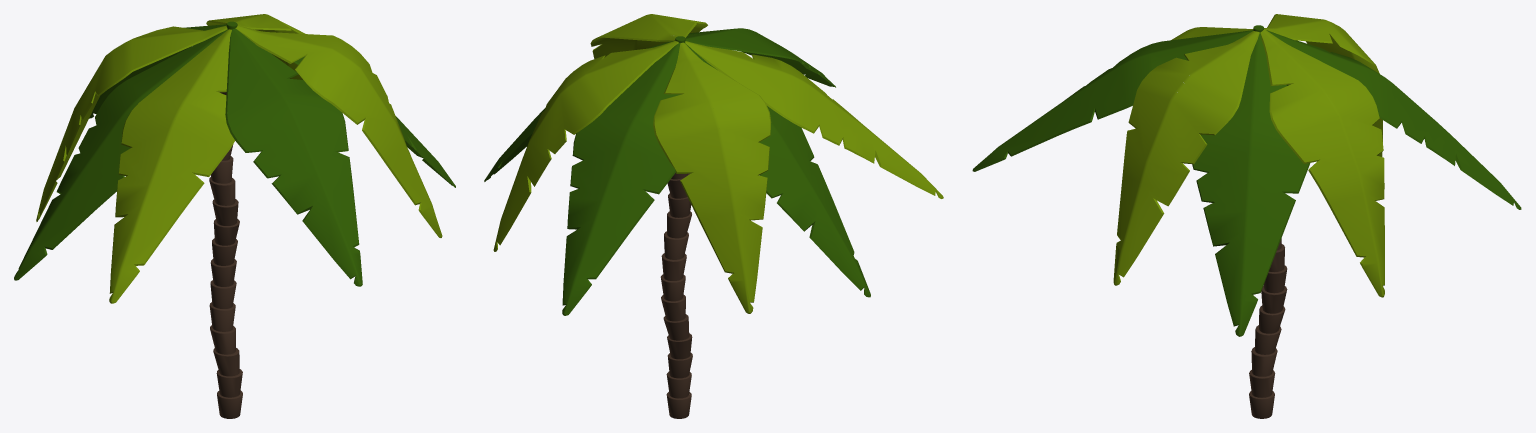
File: PalmTree02.fbx
The picture shows the model from 3 angles, left to right: view 1: azimuth 30°, elevation 25°; view 2: azimuth 150°, elevation 25°; view 3: azimuth 270°, elevation 25°; orthographic projection. The views are drawn at different scales.
Visible parts, largest first — view 1: PalmTree02; view 2: PalmTree02; view 3: PalmTree02.
Boxes of the visible parts, x1,y1,x2,y2 form: PalmTree02: (14, 14, 455, 418); PalmTree02: (484, 14, 943, 418); PalmTree02: (972, 14, 1521, 418).
Size of the model in its own units: 552 by 490 by 629.
